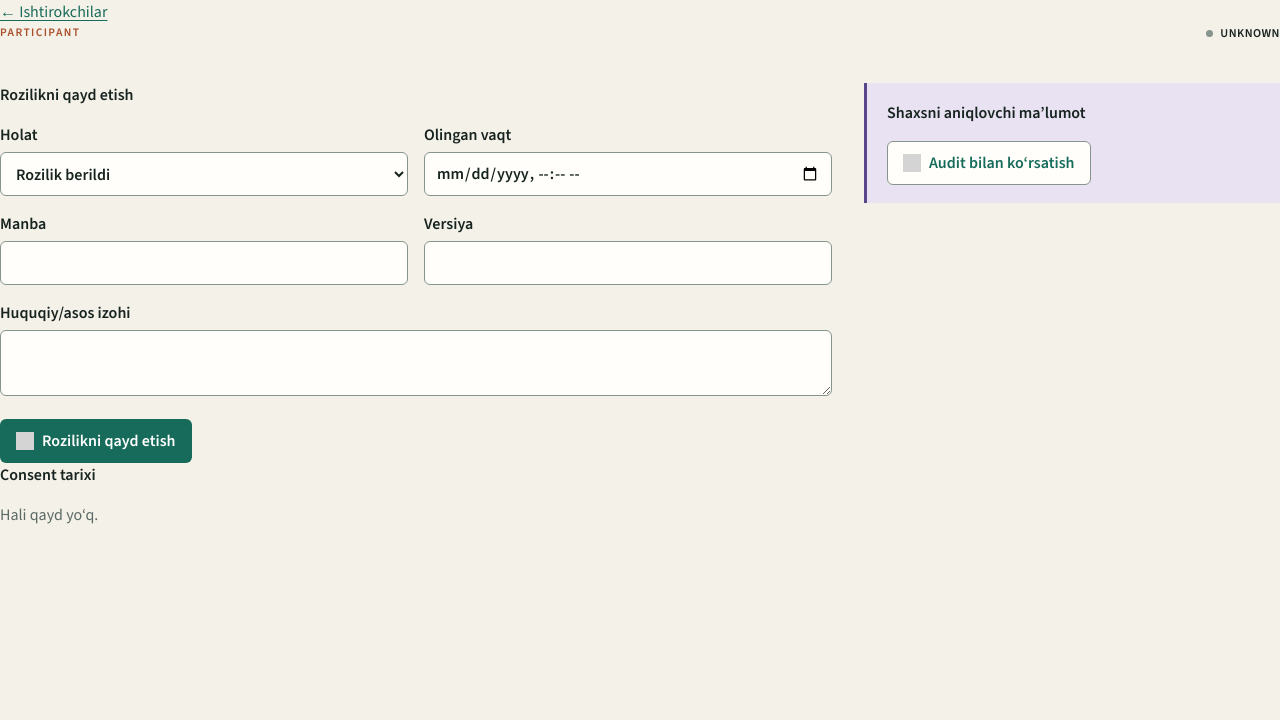
Test: PII permission and deletion › requires a second destructive confirmation, deletes and removes plaintext
This screenshot has width=1280, height=720.
Click the button "Audit bilan ko‘rsatish" at (989, 163), box [887,141,1090,185]
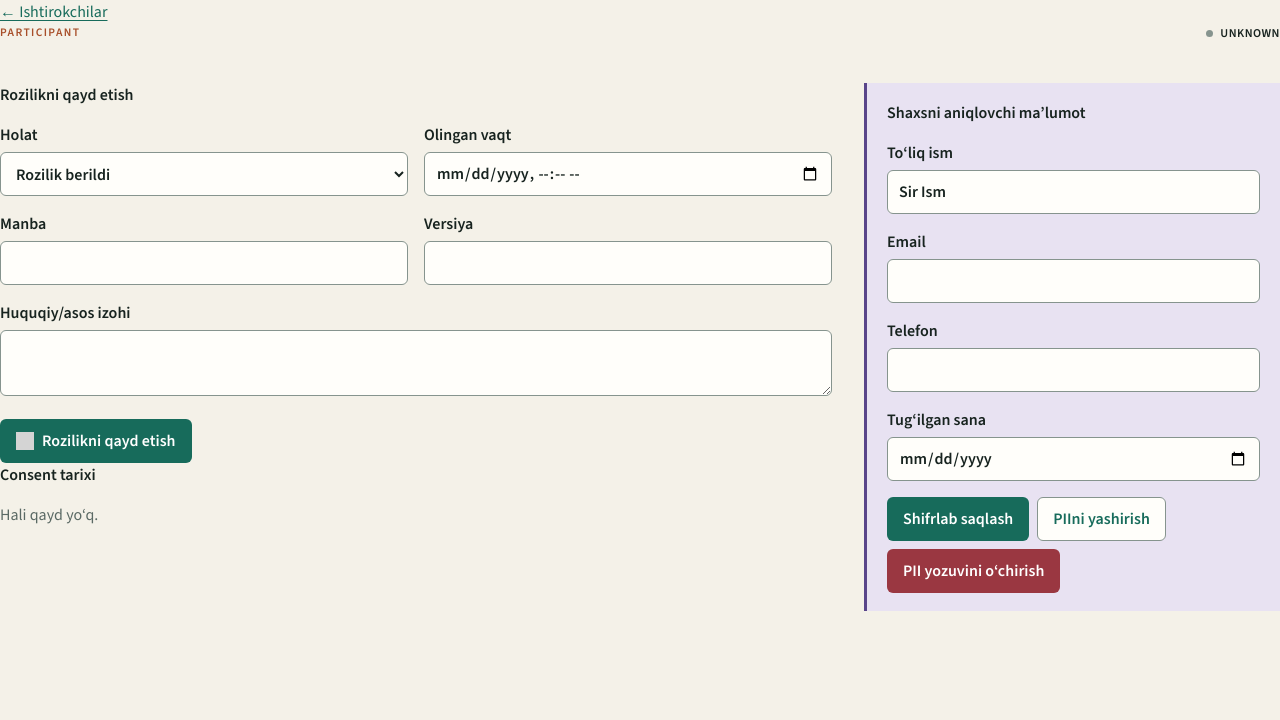
Expected: the field showing "Sir Ism" is shown, [887,170,1260,214]
Click the button "PII yozuvini o‘chirish" at (974, 571), box [887,549,1060,593]
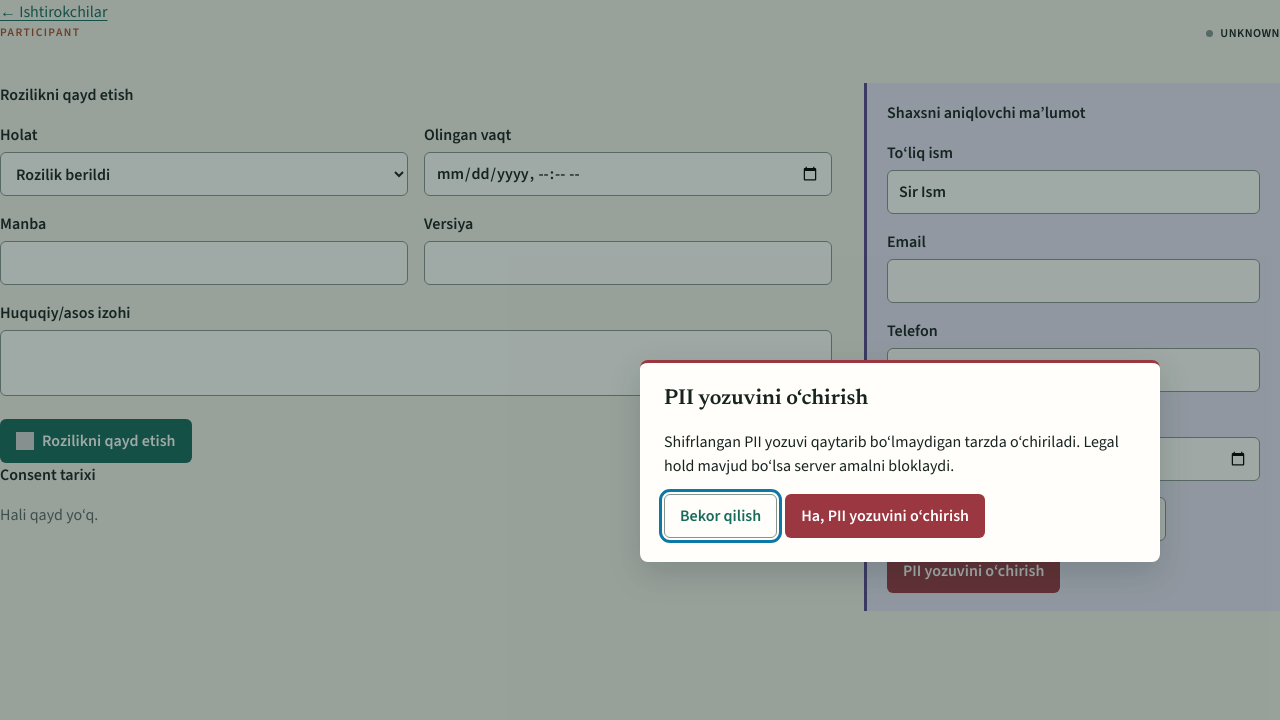
Click the button "Ha, PII yozuvini o‘chirish" at (885, 516), box [785,494,985,538]
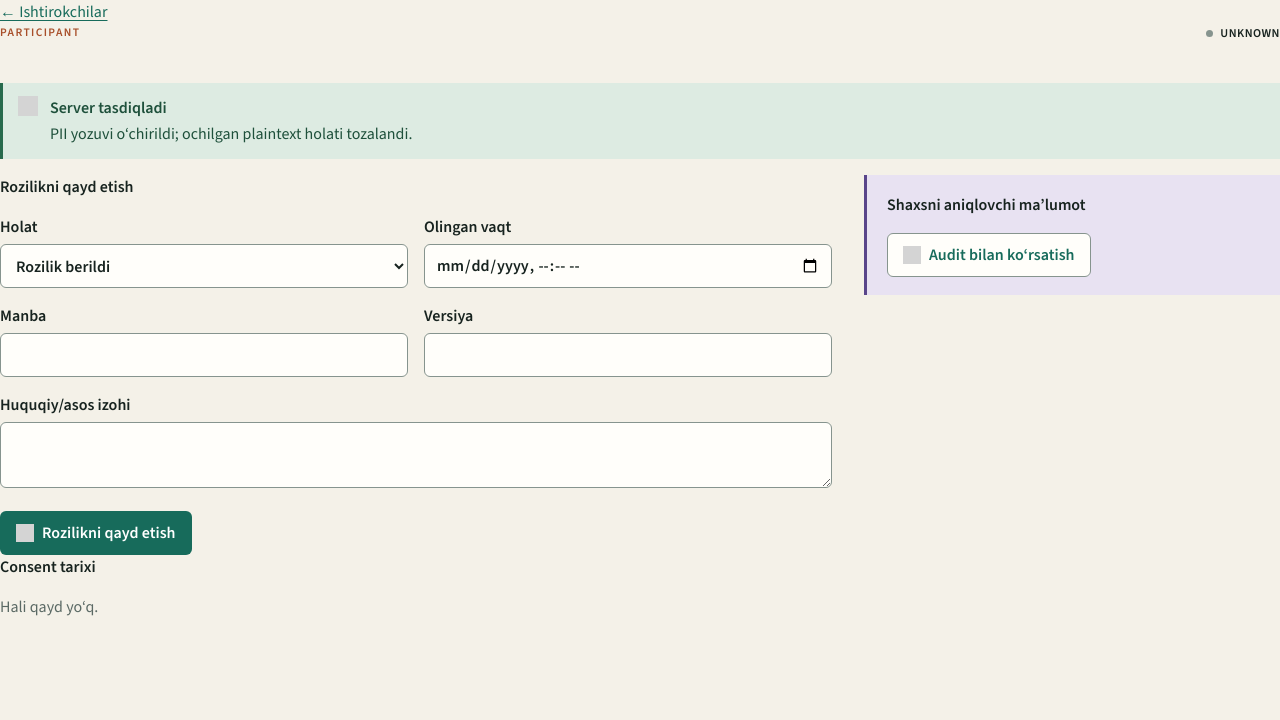
Expected: the field showing "Sir Ism" is not shown
Expected: the text "PII yozuvi o‘chirildi; ochilgan plaintext holati tozalandi." is shown, [50,122,412,146]
